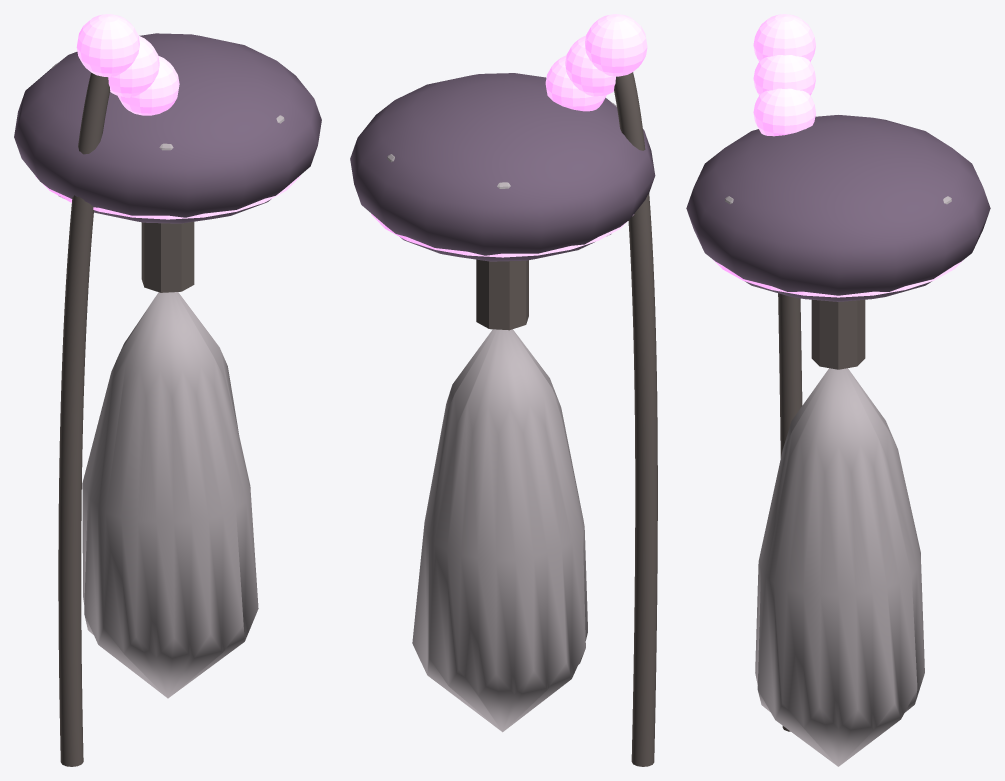
Rendered from sporecaller.glb.
The picture shows the model from 3 angles, left to right: view 1: azimuth 30°, elevation 25°; view 2: azimuth 150°, elevation 25°; view 3: azimuth 270°, elevation 25°; orthographic projection. The views are drawn at different scales.
Parts seen in each view (by area): view 1: sporecaller; view 2: sporecaller; view 3: sporecaller.
Part boxes in pixels (x1,y1,x2,y2): sporecaller: [14, 14, 321, 766]; sporecaller: [350, 14, 657, 766]; sporecaller: [686, 14, 990, 766].
Bounding box in the file's own units: 0.68 × 1.79 × 0.68.
